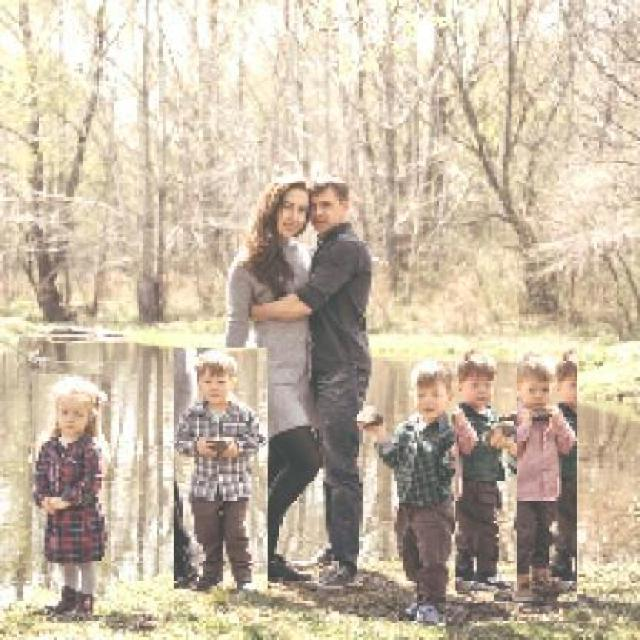child: (354, 357, 483, 626), (172, 348, 268, 592), (492, 348, 577, 603), (30, 374, 110, 617), (454, 348, 517, 592)
